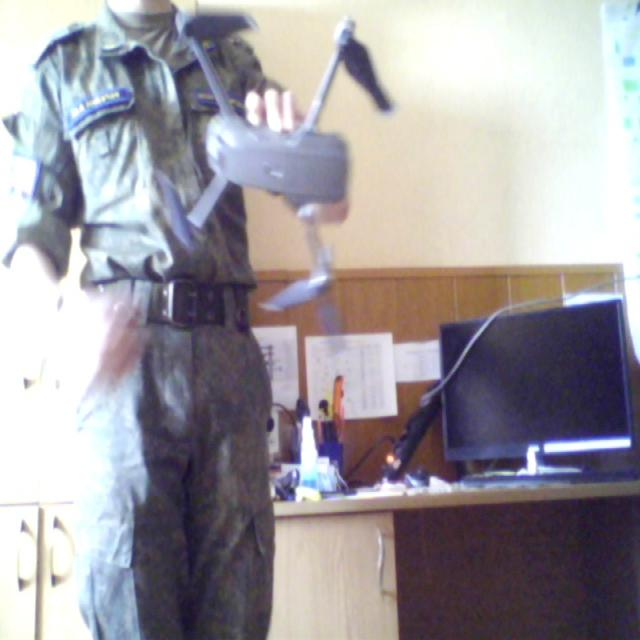drone: (144, 0, 386, 296)
